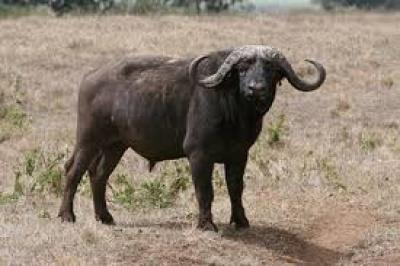buffalo: (58, 45, 325, 230)
